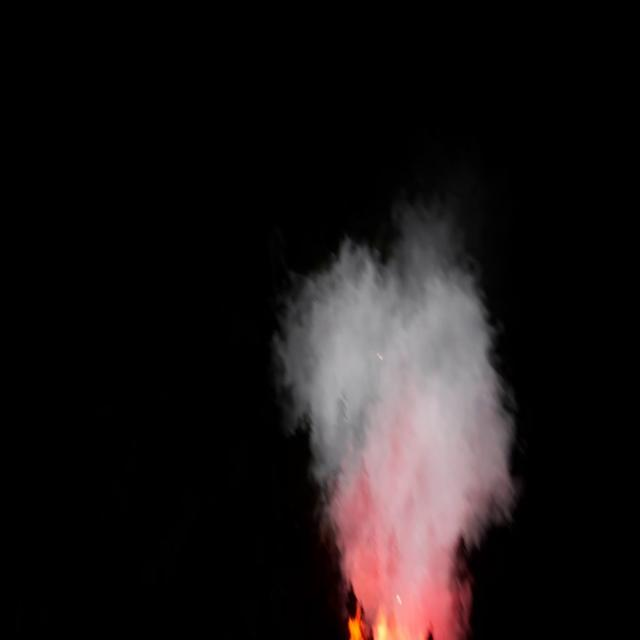fire: (346, 605, 441, 639)
smoke: (270, 195, 527, 618)
